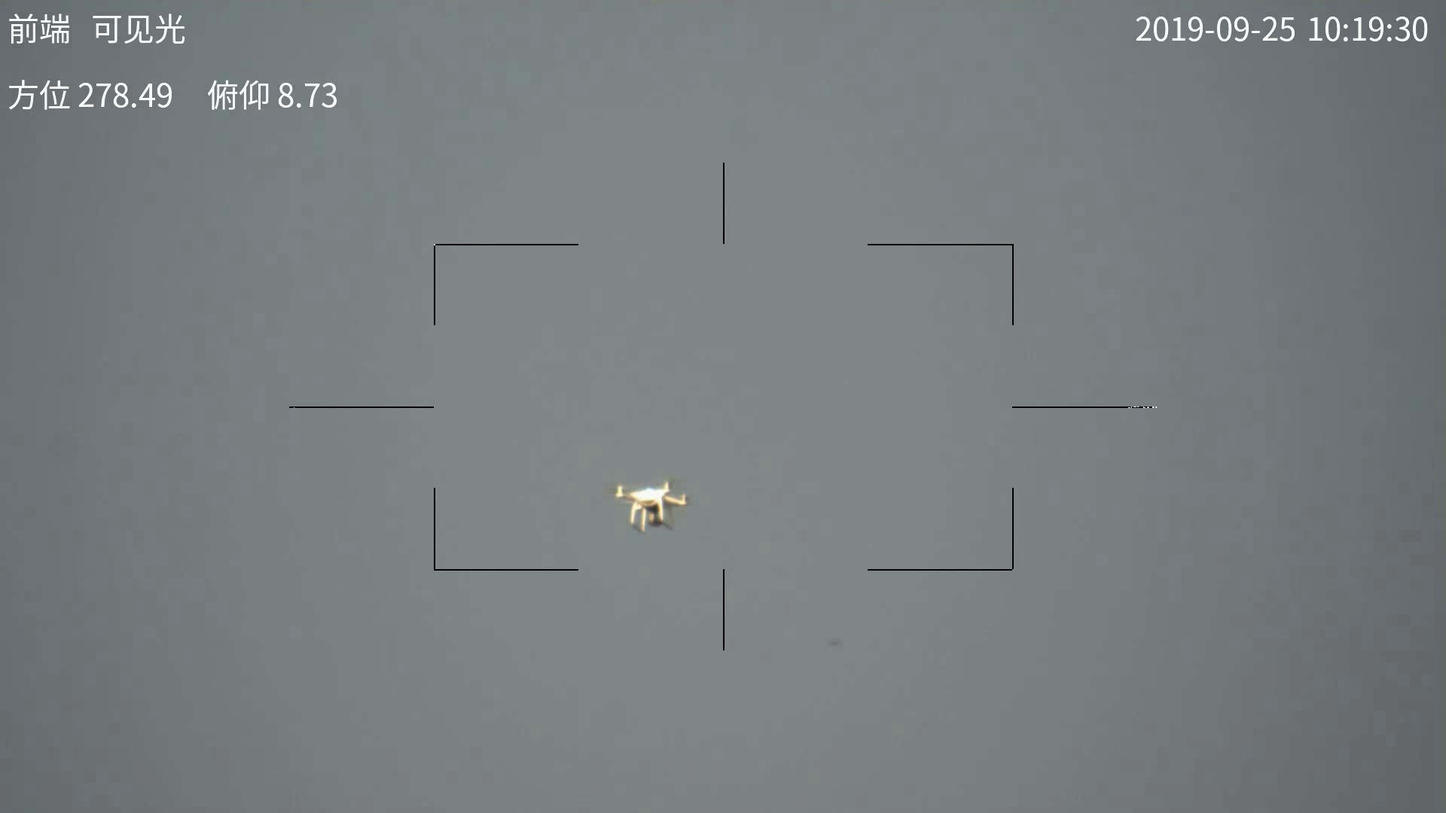drone_other: (597, 476, 696, 536)
